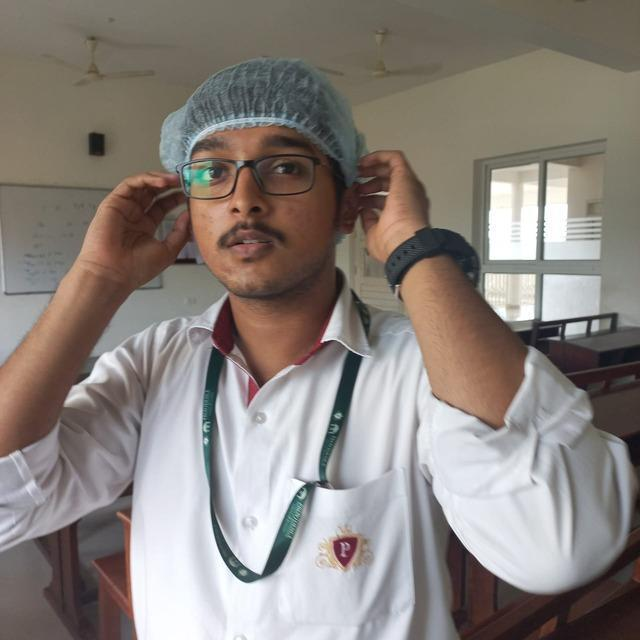bare_hand: (77, 170, 194, 289), (353, 146, 432, 261)
